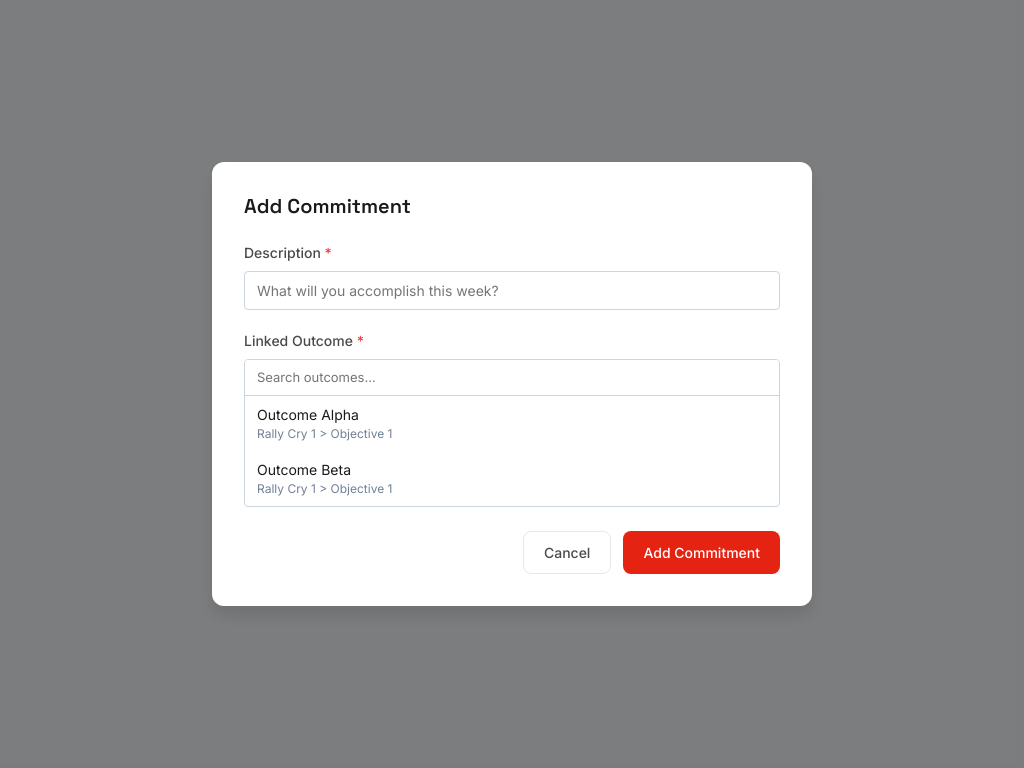
Test: CommitmentForm › shows no outcomes message when filter matches nothing
Type "zzz" into the field with placeholder "Search outcomes..." at coordinates (512, 378), box [245, 360, 779, 396]
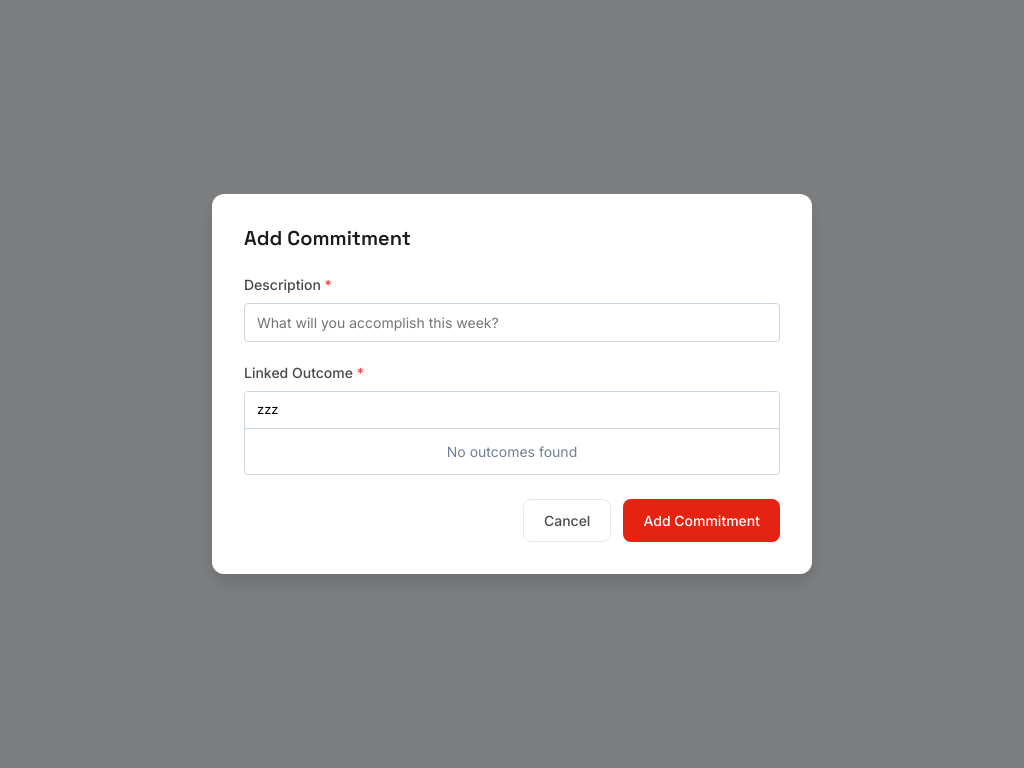
Expected: the text "No outcomes found" is shown, [447, 443, 577, 460]
